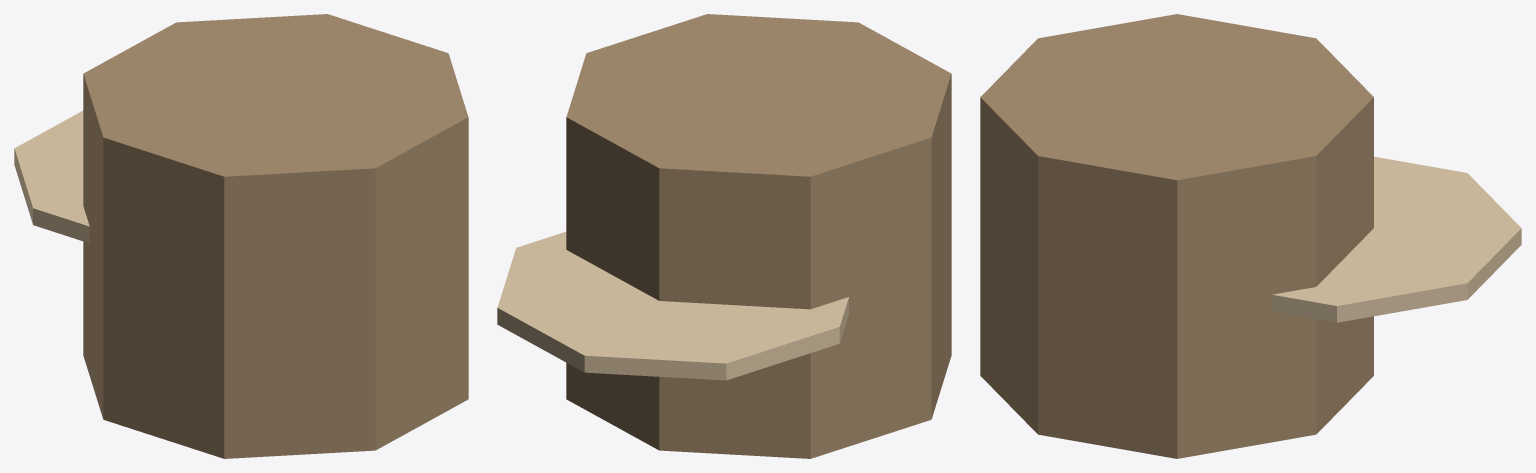
File: stump.fbx
3 views of the same model, side by side, from view 1: azimuth 30°, elevation 25°; view 2: azimuth 150°, elevation 25°; view 3: azimuth 270°, elevation 25° (orthographic).
Parts seen in each view (by area): view 1: Stump, CutTop; view 2: Stump, CutTop; view 3: Stump, CutTop.
Boxes of the visible parts, x1,y1,x2,y2 form: Stump: (83,14,468,458); CutTop: (14,110,89,243); Stump: (566,14,951,458); CutTop: (497,231,848,380); Stump: (980,14,1373,458); CutTop: (1272,156,1521,322).
Size of the model in its own units: 64 by 50 by 88.
